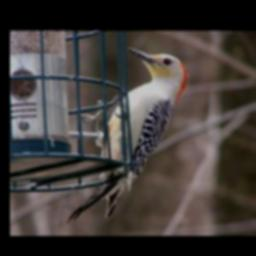Woodpecker: (65, 44, 190, 225)
